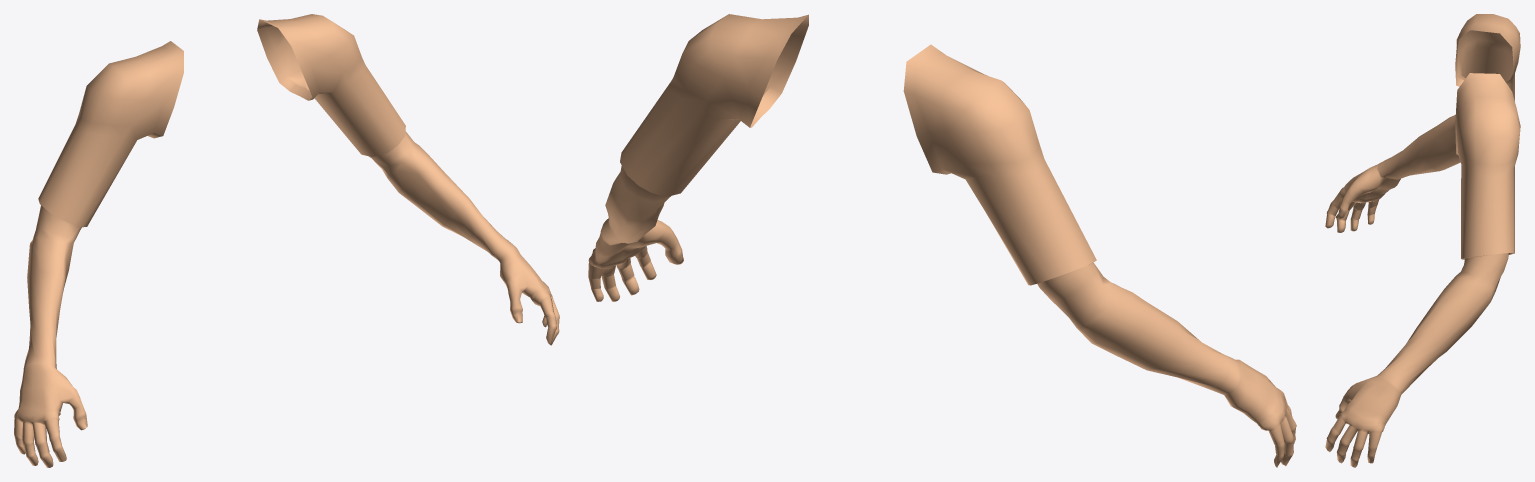
The model's file is HandsTxTr_File.fbx.
3 renders of one model, left to right at view 1: azimuth 30°, elevation 25°; view 2: azimuth 150°, elevation 25°; view 3: azimuth 270°, elevation 25°, orthographic. The views are drawn at different scales.
Visible parts, largest first — view 1: SK_Hands; view 2: SK_Hands; view 3: SK_Hands.
Part boxes in pixels (bbox=[...]): SK_Hands: bbox=[14, 14, 559, 467]; SK_Hands: bbox=[588, 14, 1296, 467]; SK_Hands: bbox=[1325, 14, 1520, 467].
Size of the model in its own units: 110 by 62.75 by 37.3.
